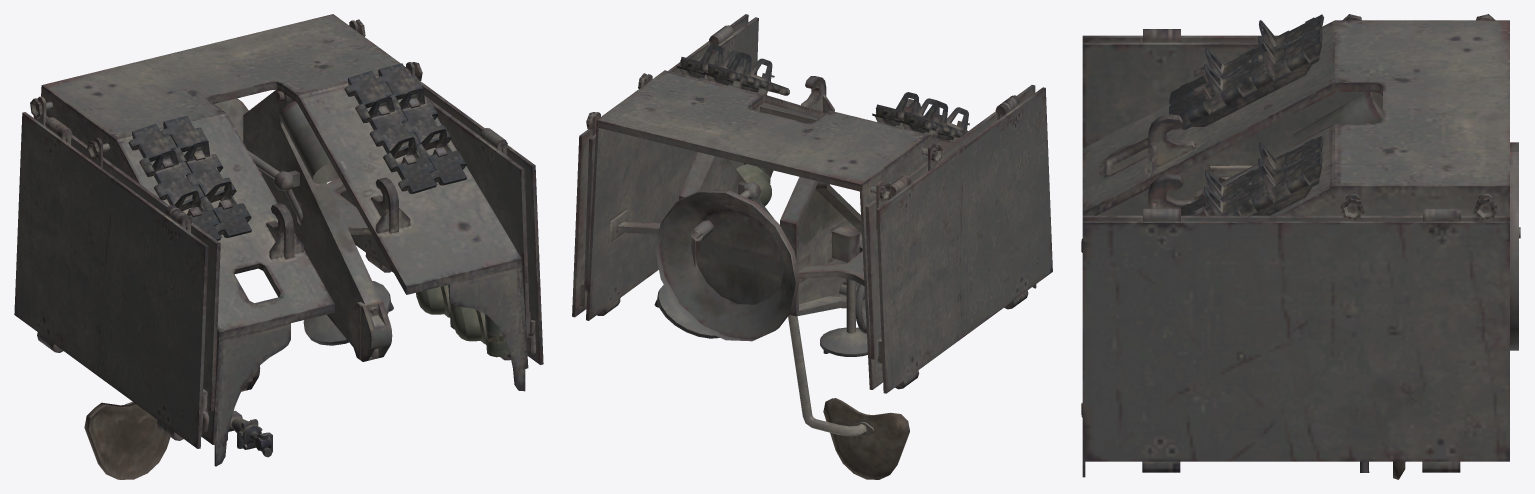
Rendered from Turret_01.glb.
The picture shows the model from 3 angles, left to right: view 1: azimuth 30°, elevation 25°; view 2: azimuth 150°, elevation 25°; view 3: azimuth 270°, elevation 25°; orthographic projection. The views are drawn at different scales.
Visible parts, largest first — view 1: set_0_group_0; view 2: set_0_group_0; view 3: set_0_group_0.
Part boxes in pixels (box(x1,y1,x2,y2)): set_0_group_0: box(14, 14, 543, 479); set_0_group_0: box(572, 14, 1052, 479); set_0_group_0: box(1081, 14, 1520, 479).
Bounding box in the file's own units: 1.76 × 1.86 × 1.66.
1 material, 1 textured.
